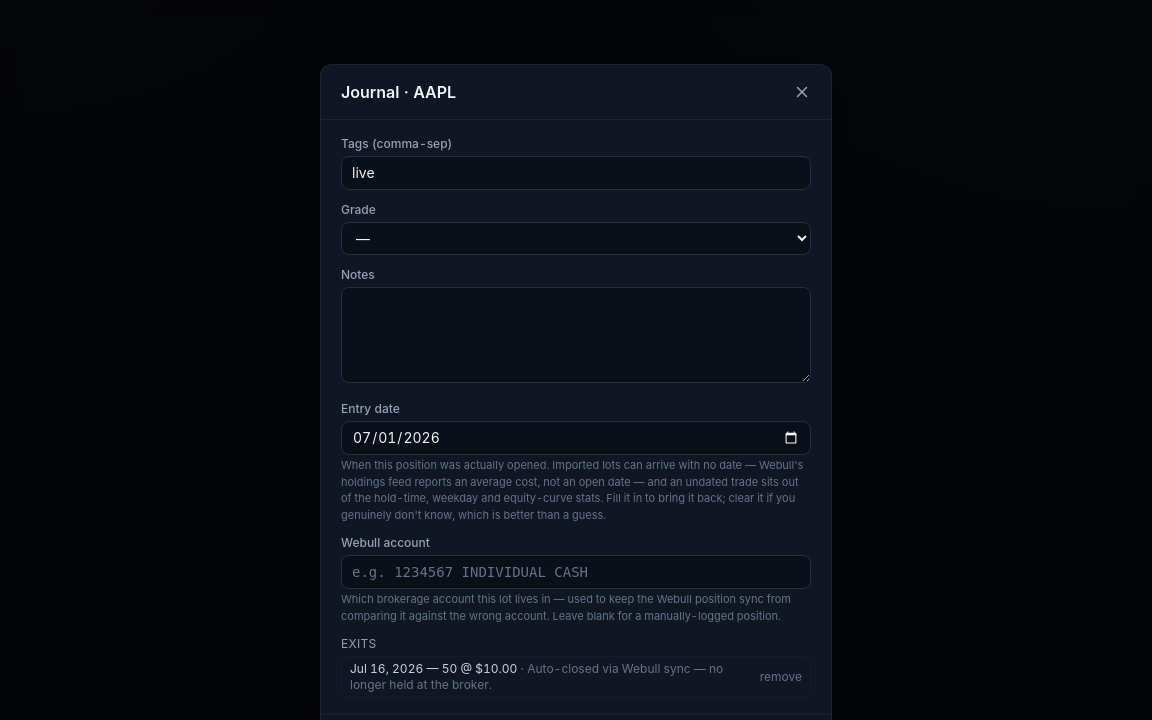
Test case: JournalEditModal — removing a mistaken exit (2026-07-17, multi-account fix recovery path) › does nothing when the confirm dialog is cancelled
The width and height of the screenshot is (1152, 720).
Click the button "remove" at (781, 677), box [760,669,802,685]
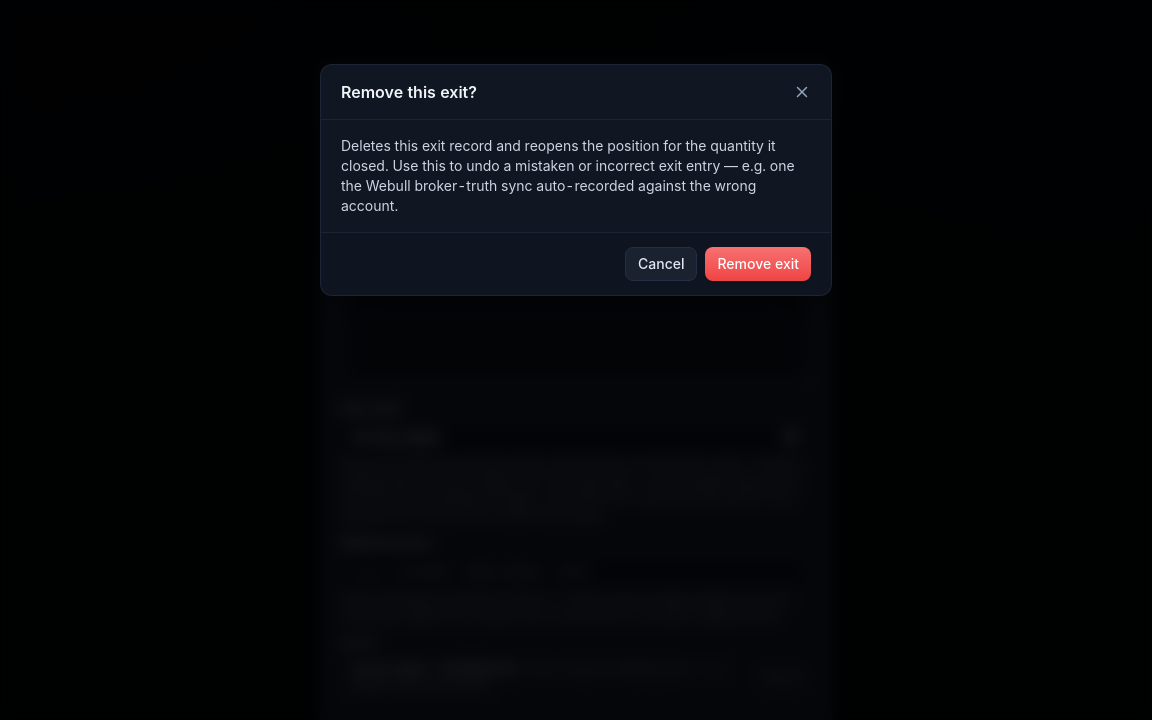
Now the heading "Remove this exit?" is shown, box [341,80,477,104]
Click the button "Cancel" at (661, 264), box [625,247,698,281]
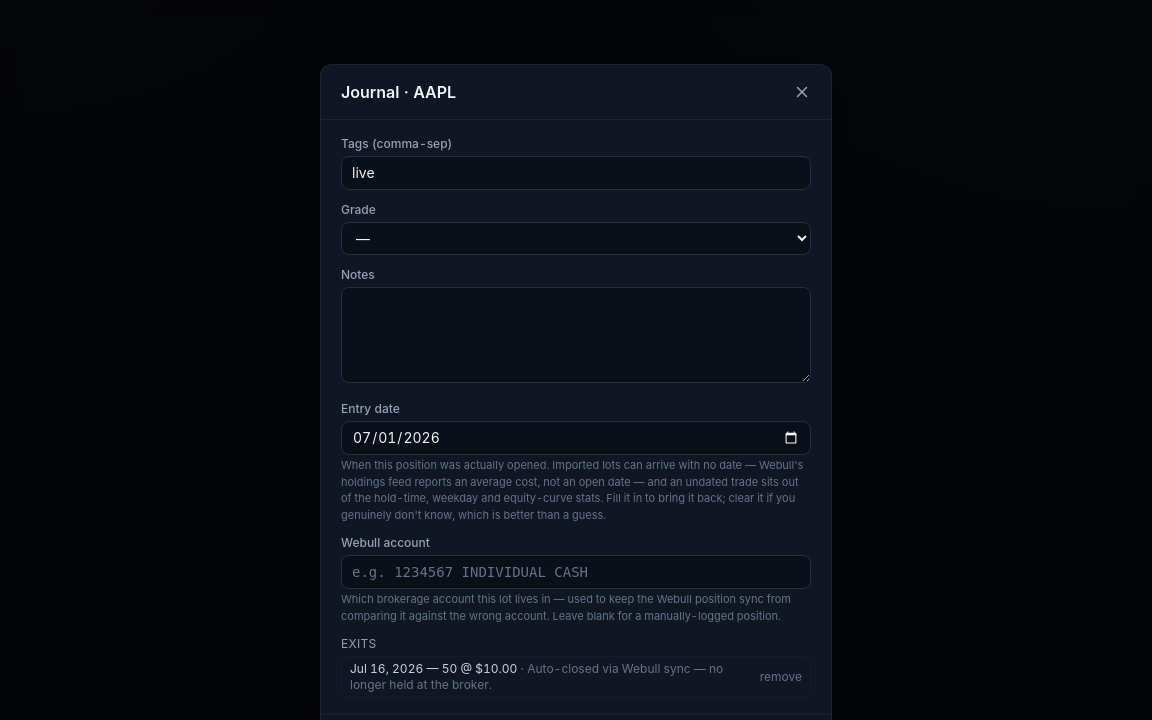
Now the heading "Remove this exit?" is gone
